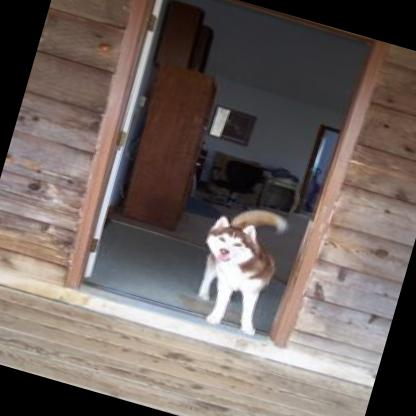Siberian_husky: (177, 192, 292, 340)
